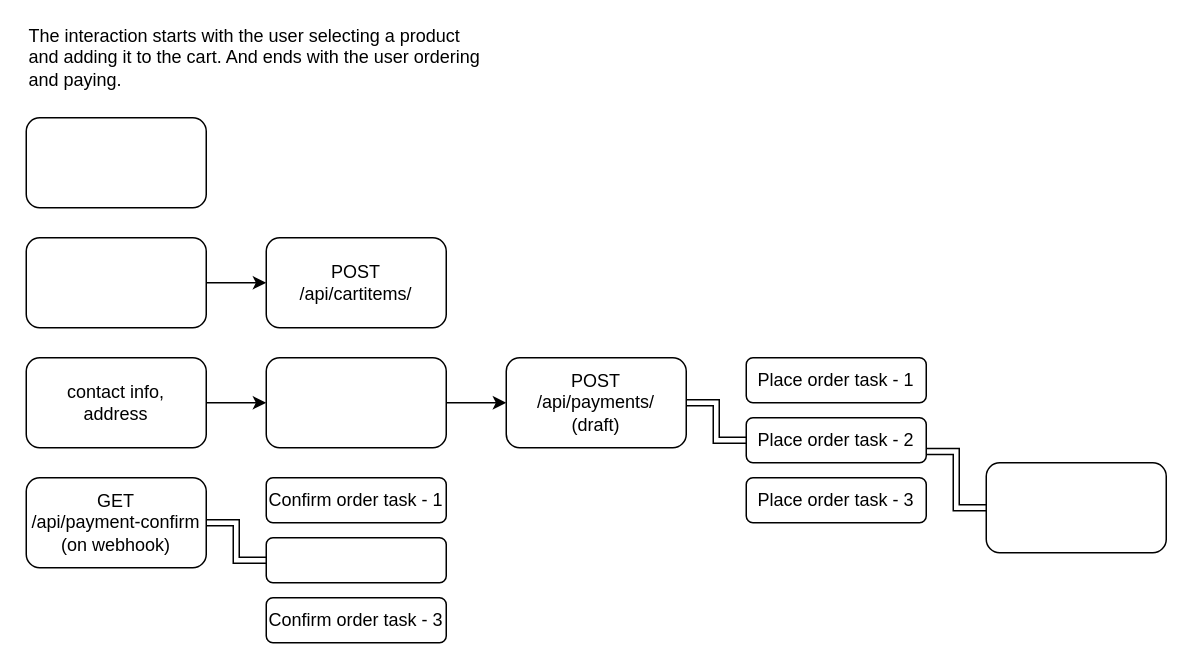
Some shapes in this 1193 by 669 pixel diagram are drawn without their labels. The centre of each missing label's shape, as x and y in pixels:
"Confirm order task - 2" belongs at (x=355, y=559).
"GET /api/carts/ (on load)" belongs at (x=115, y=162).
"POST /api/orders/" belongs at (x=355, y=402).
"product url, desired quantity" belongs at (x=115, y=282).
"Send mail task" belongs at (x=1075, y=507).
